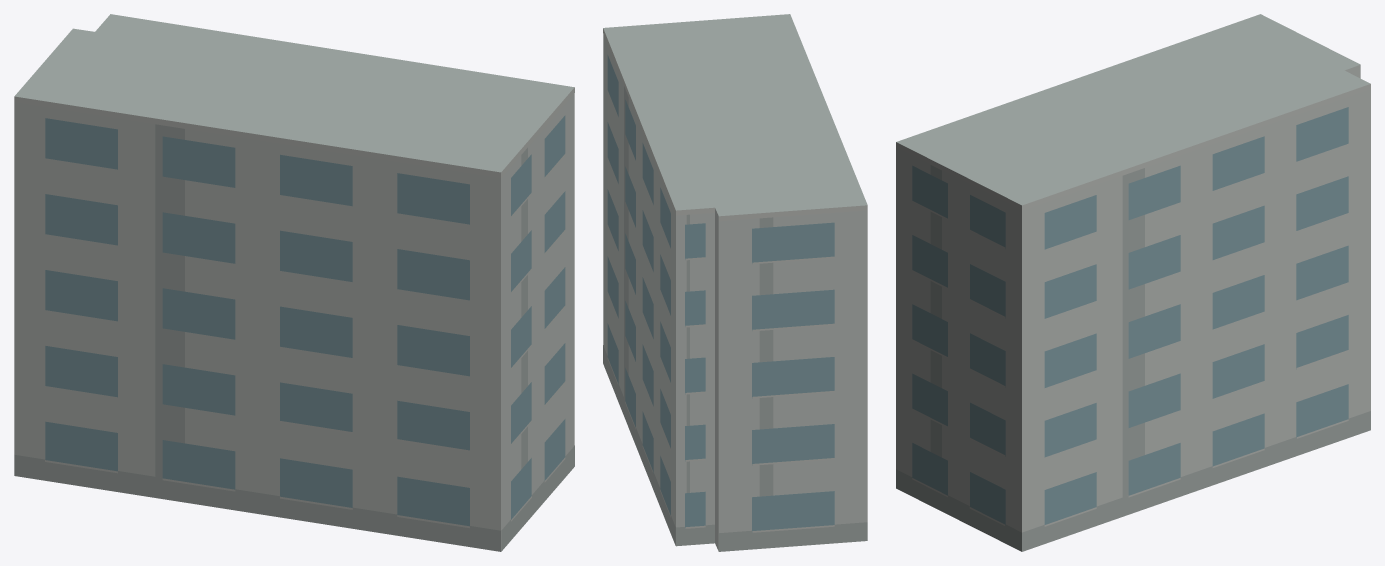
File: survey-upis-32890252.glb
3 renders of one model, left to right at view 1: azimuth 30°, elevation 25°; view 2: azimuth 150°, elevation 25°; view 3: azimuth 270°, elevation 25°, orthographic. The views are drawn at different scales.
Visible parts, largest first — view 1: survey-upis-32890252.tmp; view 2: survey-upis-32890252.tmp; view 3: survey-upis-32890252.tmp.
Boxes of the visible parts, x1,y1,x2,y2 form: survey-upis-32890252.tmp: (14, 14, 574, 551); survey-upis-32890252.tmp: (603, 14, 867, 551); survey-upis-32890252.tmp: (896, 14, 1370, 551).
Size of the model in its own units: 18.85 by 15.9 by 19.75.
